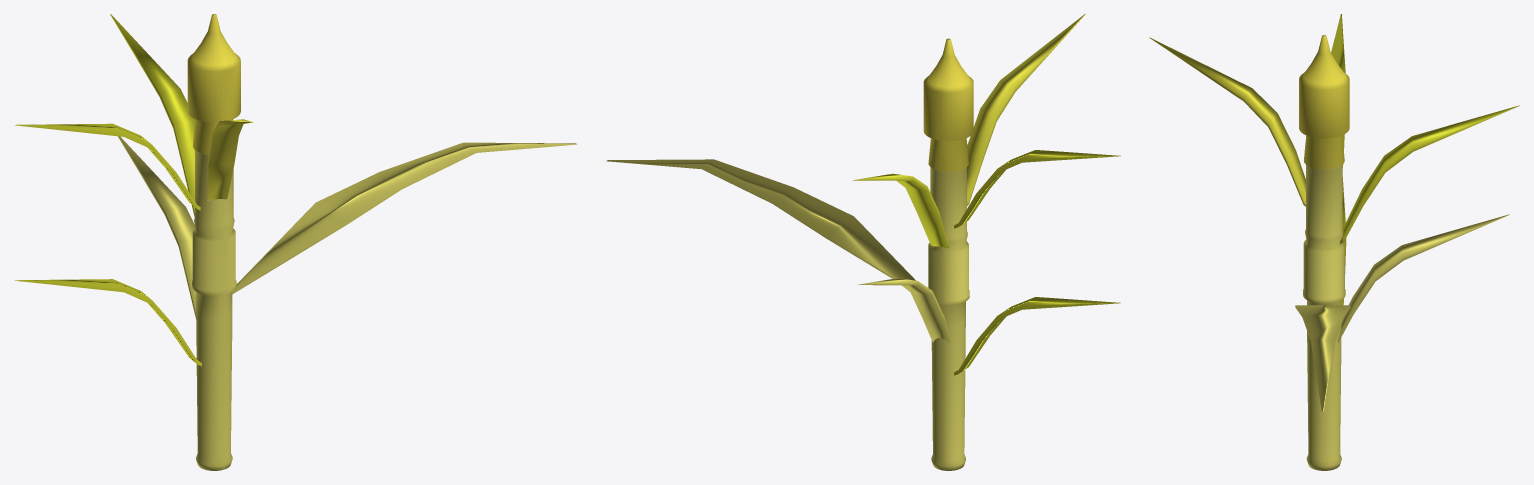
File: palayyello.fbx
3 renders of one model, left to right at view 1: azimuth 30°, elevation 25°; view 2: azimuth 150°, elevation 25°; view 3: azimuth 270°, elevation 25°, orthographic. The views are drawn at different scales.
Visible parts, largest first — view 1: Cube.004; view 2: Cube.004; view 3: Cube.004.
Part boxes in pixels (bbox=[...]): Cube.004: bbox=[15, 14, 577, 470]; Cube.004: bbox=[606, 14, 1120, 470]; Cube.004: bbox=[1149, 14, 1519, 470].
Bounding box in the file's own units: 453 × 351 × 275.
